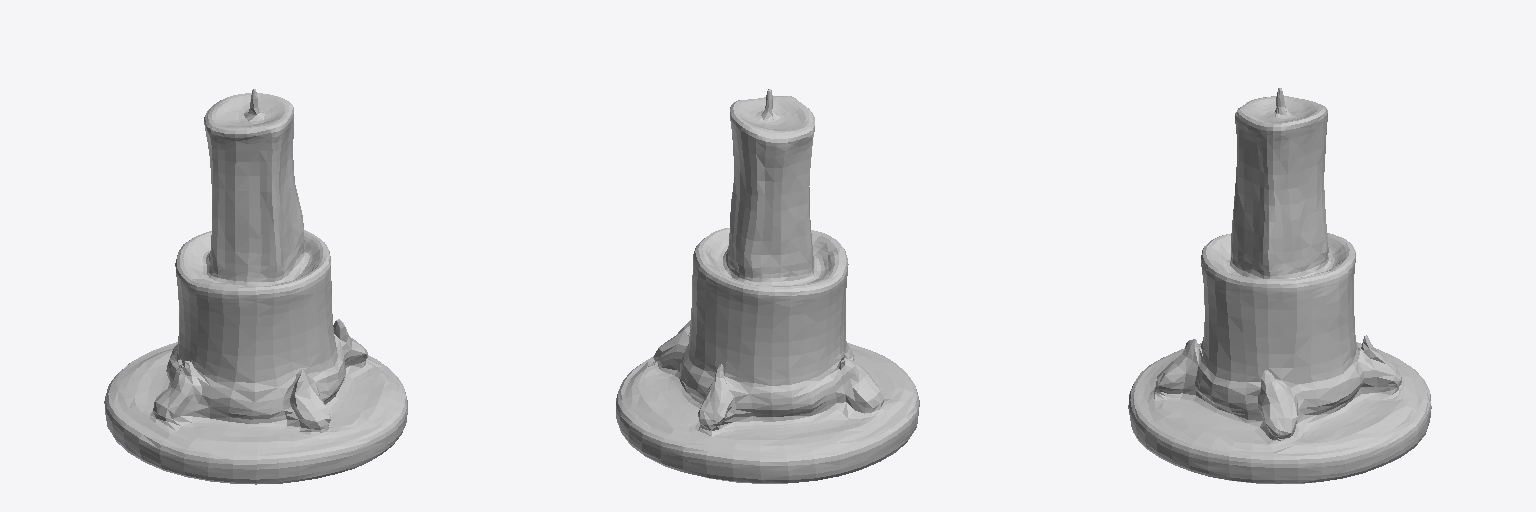
Rendered from candle.obj.
3 views of the same model, side by side, from view 1: azimuth 30°, elevation 25°; view 2: azimuth 150°, elevation 25°; view 3: azimuth 270°, elevation 25° (orthographic).
Visible parts, largest first — view 1: mesh; view 2: mesh; view 3: mesh.
Boxes of the visible parts, box(x1,y1,x2,y2) form: mesh: box(104, 89, 407, 484); mesh: box(616, 89, 919, 483); mesh: box(1128, 88, 1431, 483).
Bounding box in the file's own units: 0.8145 × 0.995 × 0.8163.